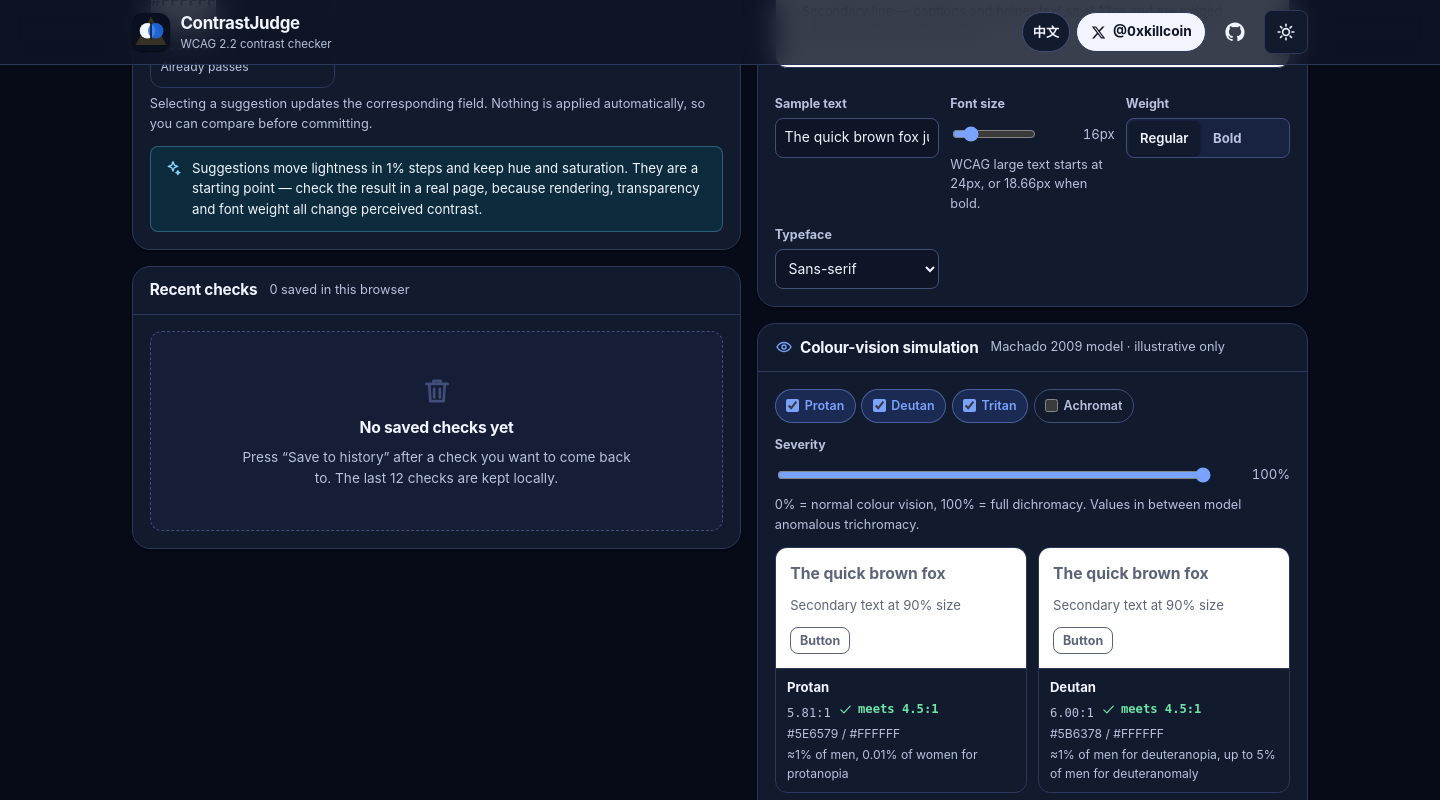
Test: ContrastJudge app shell › renders colour-vision simulation cards with disclaimers
(page scrolled)
Expected: the heading "Colour-vision simulation" is shown, [775,338,979,357]
Click the checkbox labelled "Protan". click: point(793, 406)
box: [786,399,799,412]
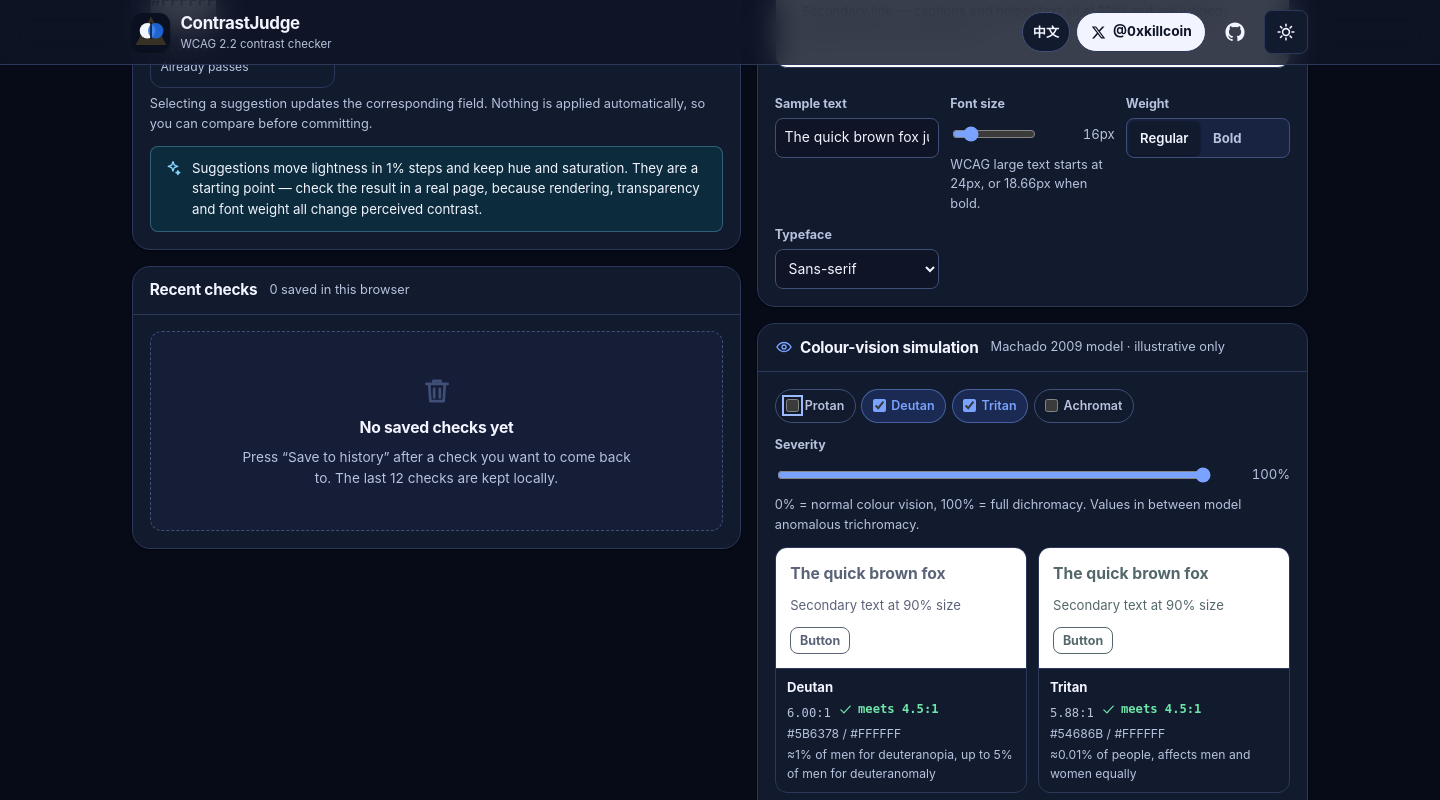
Click the checkbox labelled "Deutan". click: point(879, 406)
box: [873,399,886,412]
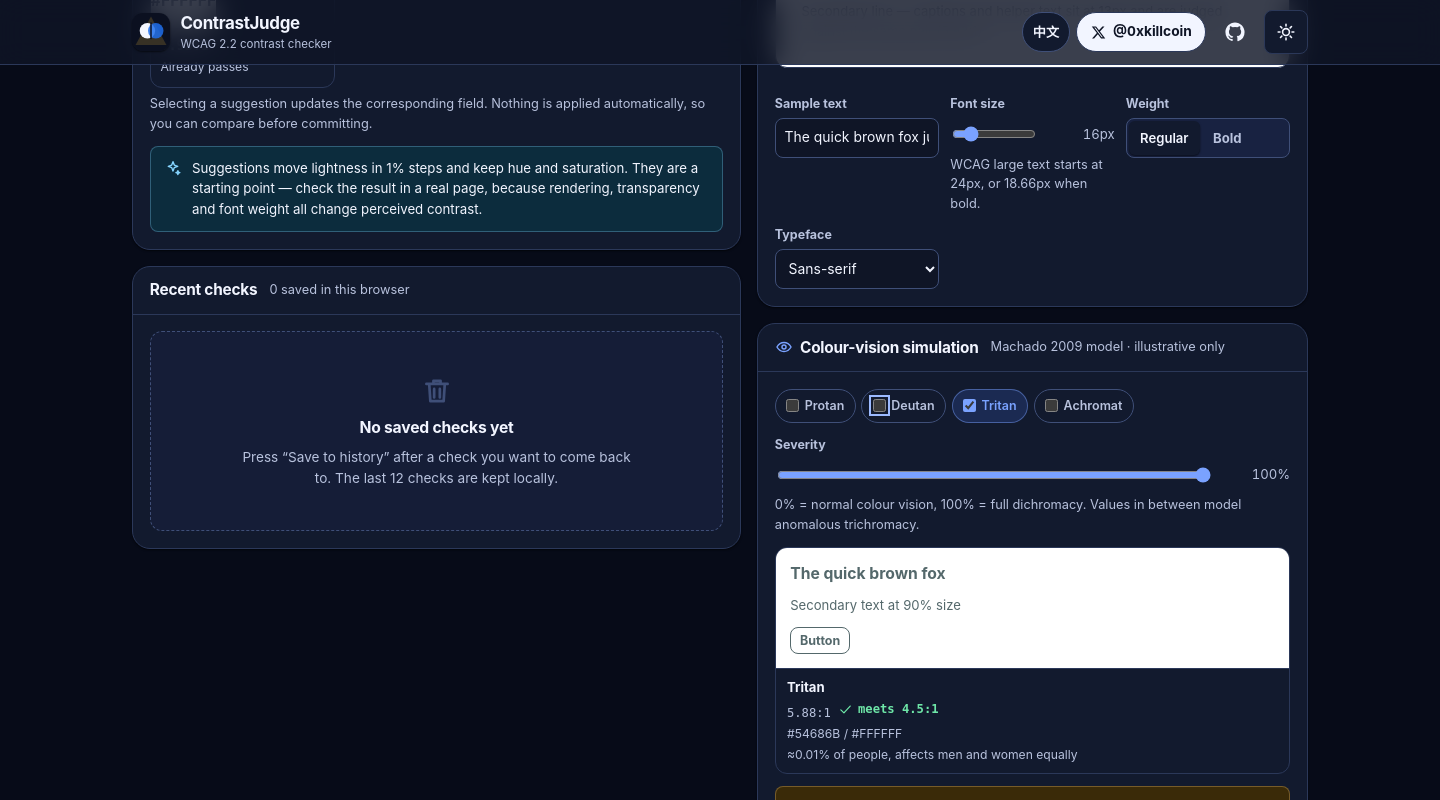
Click the checkbox labelled "Tritan". click: point(970, 406)
box: [963,399,976,412]
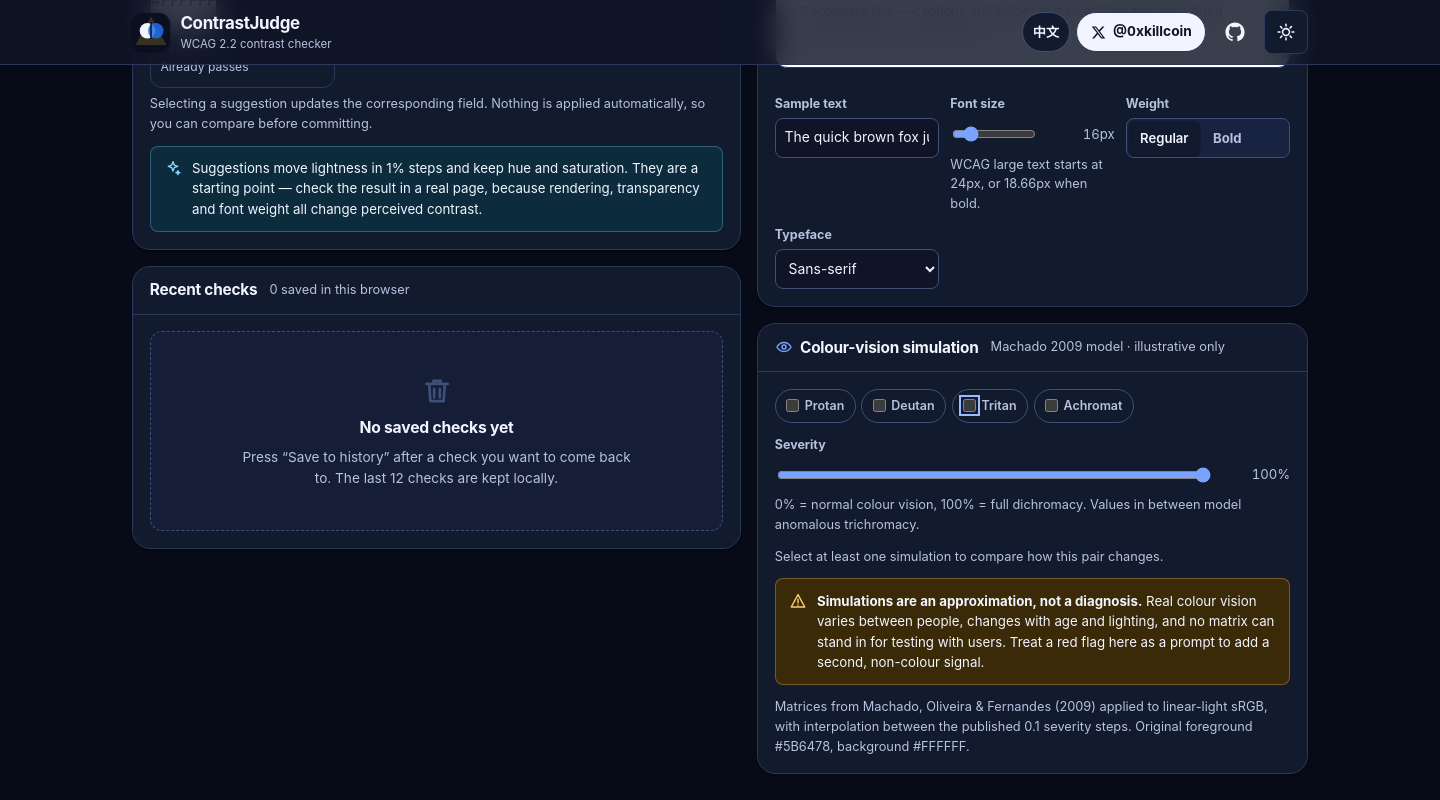
Result: the text "Select at least one simulation to compare how this pair changes." is shown at [775,549,1164,564]
